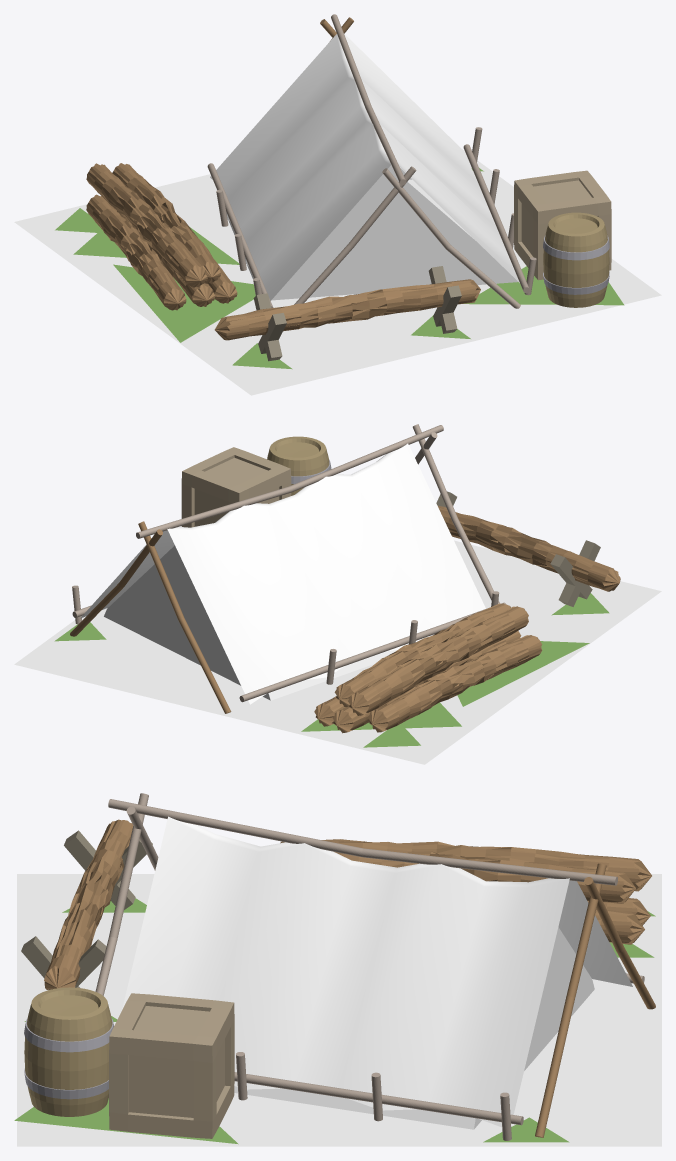
Rendered from lumberjack.fbx.
3 renders of one model, top to bottom at view 1: azimuth 30°, elevation 25°; view 2: azimuth 150°, elevation 25°; view 3: azimuth 270°, elevation 25°, orthographic. The views are drawn at different scales.
Visible parts, largest first — view 1: Plane.007, Plane.009, Plane.002, Cylinder.030, Cube.004, Cylinder.013, Cylinder.028, Cylinder.027, Plane, Cylinder.023, Cylinder.029, Cube.020 (+11 smaller); view 2: Plane.007, Plane.009, Plane.002, Cube.004, Cylinder.028, Cylinder.027, Cylinder.030, Cylinder.029, Cylinder.024, Cylinder.021, Cylinder.013, Plane (+9 smaller); view 3: Plane.007, Plane.009, Cube.004, Cylinder.013, Plane.002, Cylinder.030, Cylinder.021, Cylinder.028, Cylinder.024, Cylinder.029, Cube.020, Cylinder.020 (+7 smaller).
Part boxes in pixels (x1,y1,x2,y2): Plane.007: (210,33,519,300); Plane.009: (14,149,661,395); Plane.002: (226,165,517,300); Cylinder.030: (214,279,480,340); Cube.004: (514,170,611,280); Cylinder.013: (543,212,609,307); Cylinder.028: (86,163,207,287); Cylinder.027: (86,194,186,310); Plane: (113,264,255,342); Cylinder.023: (294,166,520,308); Cylinder.029: (112,163,220,283); Cube.020: (253,266,461,361); Plane.007: (80,443,485,704); Plane.009: (14,540,661,764); Plane.002: (104,545,434,700); Cube.004: (181,447,291,527); Cylinder.028: (348,606,528,715); Cylinder.027: (368,635,542,732); Cylinder.030: (438,506,620,591); Cylinder.029: (334,603,510,706); Cylinder.024: (70,521,231,713); Cylinder.021: (136,425,443,538); Cylinder.013: (267,436,329,495); Plane: (457,641,589,706); Plane.007: (122,816,632,1127); Plane.009: (17,874,661,1146); Cube.004: (109,993,234,1138); Cylinder.013: (24,987,112,1116); Plane.002: (234,927,594,1129); Cylinder.030: (44,819,133,989); Cylinder.021: (108,799,617,885); Cylinder.028: (280,839,651,891); Cylinder.024: (535,863,655,1137); Cylinder.029: (334,851,636,903); Cube.020: (21,830,152,989); Cylinder.020: (234,1072,523,1125).
Bounding box in the file's own units: 200 × 69.9 × 201.
